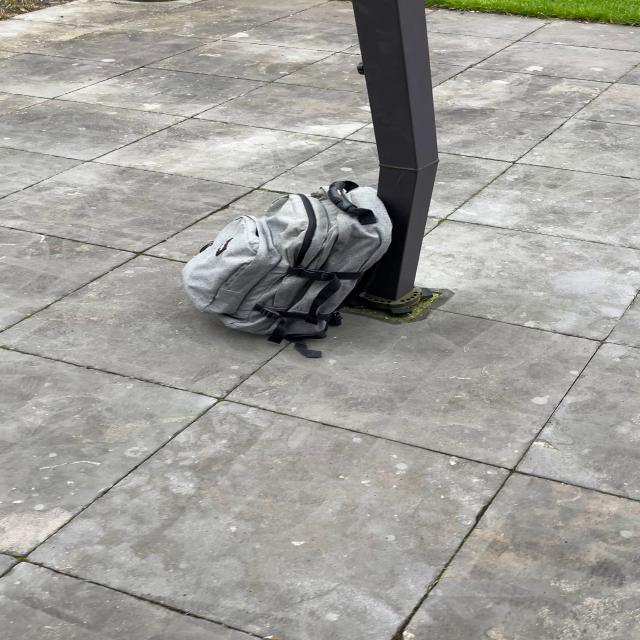backpack: (168, 177, 399, 346)
